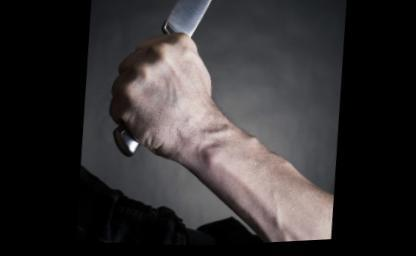knife: (117, 0, 241, 99)
